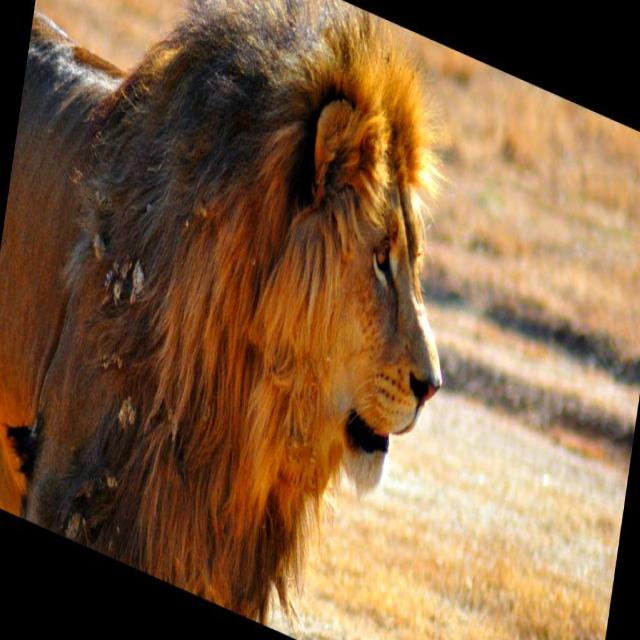Lion: (0, 0, 487, 639)
